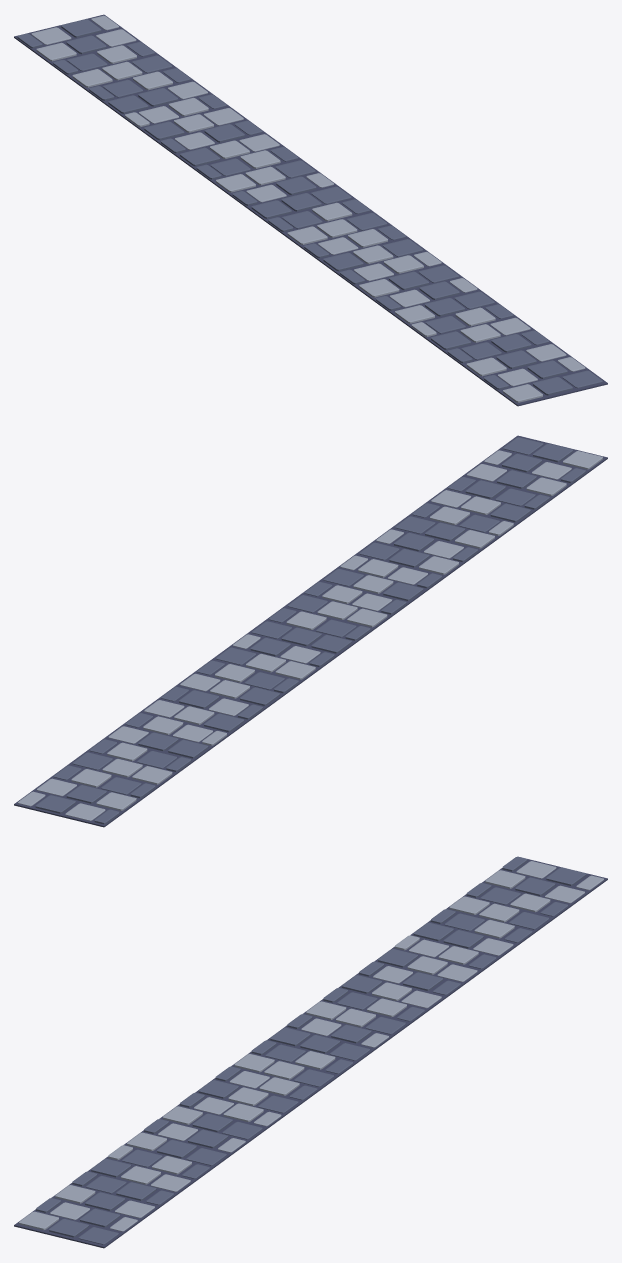
Rendered from F_Sidewalk_001.fbx.
3 renders of one model, top to bottom at view 1: azimuth 30°, elevation 25°; view 2: azimuth 150°, elevation 25°; view 3: azimuth 330°, elevation 25°, orthographic.
Parts seen in each view (by area): view 1: F_Sidewalk_001; view 2: F_Sidewalk_001; view 3: F_Sidewalk_001.
Boxes of the visible parts, left/top/right/bottom form: F_Sidewalk_001: left=14, top=14, right=607, bottom=406; F_Sidewalk_001: left=14, top=435, right=607, bottom=827; F_Sidewalk_001: left=14, top=856, right=607, bottom=1248.
Bounding box in the file's own units: 1603 × 50.23 × 15492.
